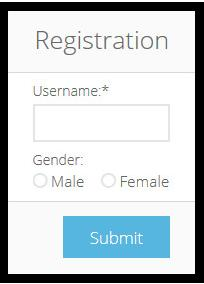button: (60, 214, 172, 259)
field: (32, 102, 171, 143)
field_with_label: (30, 85, 173, 145)
radio: (32, 171, 48, 189), (100, 171, 116, 189)
radio_with_label: (98, 169, 170, 190), (31, 169, 84, 190)
